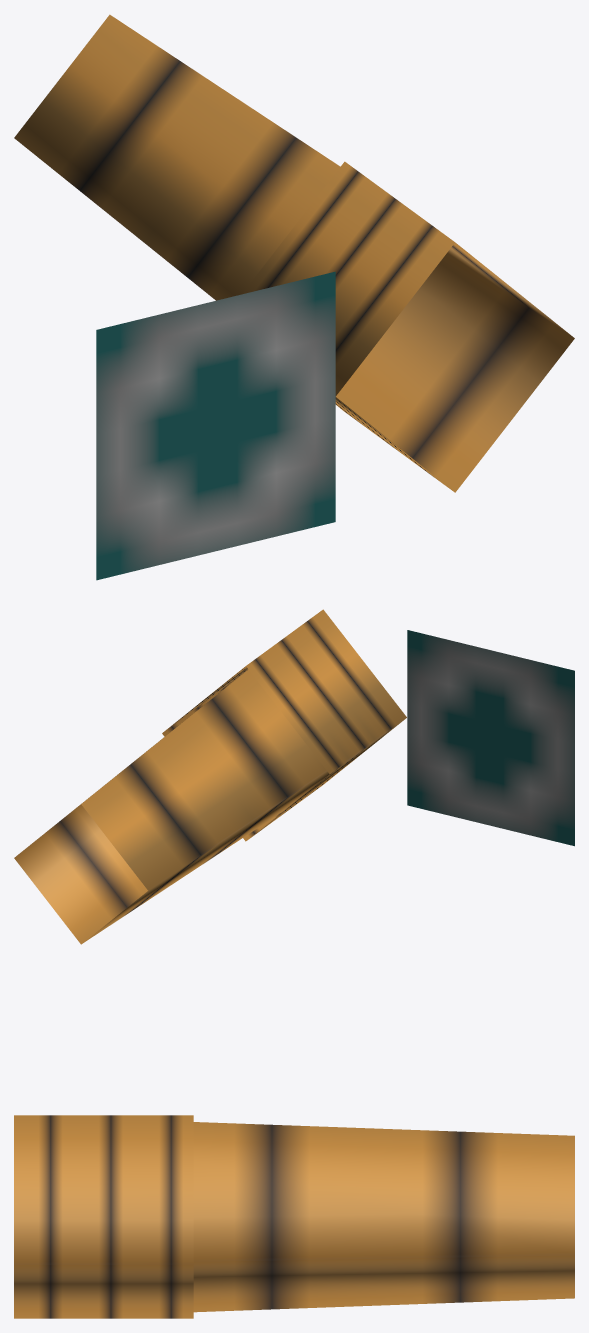
File: batch_0091.obj
3 renders of one model, top to bottom at view 1: azimuth 30°, elevation 25°; view 2: azimuth 150°, elevation 25°; view 3: azimuth 270°, elevation 25°, orthographic. The views are drawn at different scales.
Visible parts, largest first — view 1: batch_0091; view 2: batch_0091; view 3: batch_0091.
Boxes of the visible parts, x1,y1,x2,y2 form: batch_0091: (14,14,574,580); batch_0091: (14,609,574,944); batch_0091: (14,1115,574,1318).
Size of the model in its own units: 10 by 5 by 12.5.
Materials: 1 (1 with a texture image).
